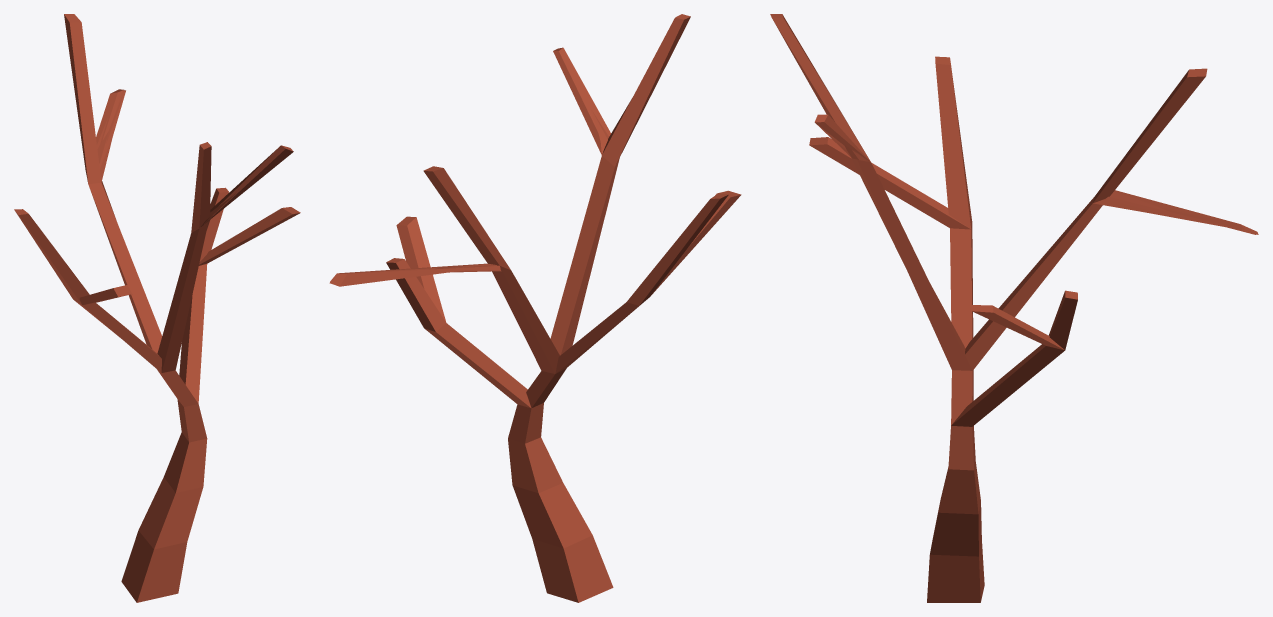
Rendered from Tree6.fbx.
The picture shows the model from 3 angles, left to right: view 1: azimuth 30°, elevation 25°; view 2: azimuth 150°, elevation 25°; view 3: azimuth 270°, elevation 25°; orthographic projection. The views are drawn at different scales.
Parts seen in each view (by area): view 1: Plane.003; view 2: Plane.003; view 3: Plane.003.
Boxes of the visible parts, left/top/right/bottom form: Plane.003: left=14, top=14, right=300, bottom=602; Plane.003: left=329, top=14, right=741, bottom=602; Plane.003: left=770, top=14, right=1258, bottom=602.
Size of the model in its own units: 150 by 243 by 190.
